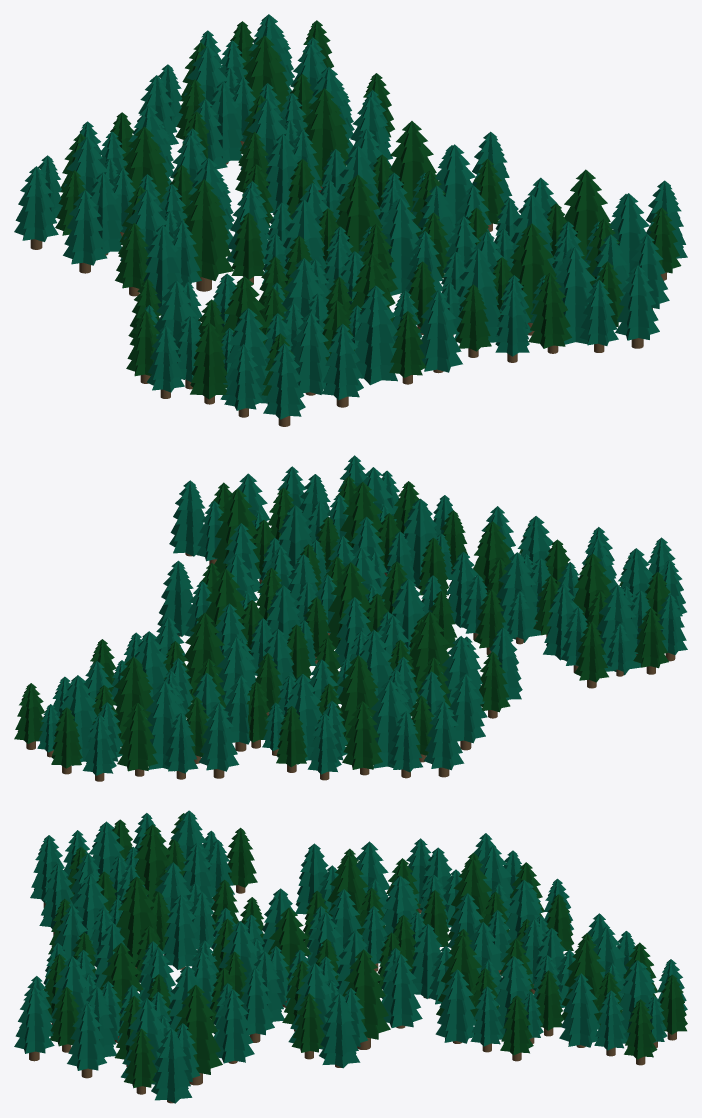
Rendered from forest4.glb.
3 renders of one model, top to bottom at view 1: azimuth 30°, elevation 25°; view 2: azimuth 150°, elevation 25°; view 3: azimuth 270°, elevation 25°, orthographic. The views are drawn at different scales.
Visible parts, largest first — view 1: Cylinder.159, Cylinder.237, Cylinder.165, Cylinder.307, Cylinder.055, Cylinder.123, Cylinder.199, Cylinder.071, Cylinder.243, Cylinder.279, Cylinder.067, Cylinder.209 (+89 smaller); view 2: Cylinder.025, Cylinder.175, Cylinder.141, Cylinder.275, Cylinder.345, Cylinder.349, Cylinder.333, Cylinder.263, Cylinder.279, Cylinder.271, Cylinder.237, Cylinder.341 (+101 smaller); view 3: Cylinder.097, Cylinder.027, Cylinder.287, Cylinder.321, Cylinder.025, Cylinder.095, Cylinder.077, Cylinder.007, Cylinder.167, Cylinder.147, Cylinder.035, Cylinder.071 (+94 smaller).
Boxes of the visible parts, <box> form: Cylinder.159: <box>353,285,397,385</box>; Cylinder.237: <box>182,179,233,280</box>; Cylinder.165: <box>419,290,462,372</box>; Cylinder.307: <box>303,88,348,186</box>; Cylinder.055: <box>555,247,595,344</box>; Cylinder.123: <box>381,198,421,295</box>; Cylinder.199: <box>292,312,330,394</box>; Cylinder.071: <box>615,265,659,340</box>; Cylinder.243: <box>63,190,107,265</box>; Cylinder.279: <box>14,166,58,241</box>; Cylinder.067: <box>528,272,571,348</box>; Cylinder.209: <box>263,343,305,419</box>; Cylinder.025: <box>169,480,205,556</box>; Cylinder.175: <box>596,584,641,675</box>; Cylinder.141: <box>496,552,540,642</box>; Cylinder.275: <box>342,701,382,769</box>; Cylinder.345: <box>117,702,157,771</box>; Cylinder.349: <box>198,702,239,771</box>; Cylinder.333: <box>145,681,183,771</box>; Cylinder.263: <box>371,680,408,769</box>; Cylinder.279: <box>423,701,464,770</box>; Cylinder.271: <box>338,655,378,745</box>; Cylinder.237: <box>409,611,449,701</box>; Cylinder.341: <box>113,656,153,747</box>; Cylinder.097: <box>342,949,390,1039</box>; Cylinder.027: <box>174,985,222,1074</box>; Cylinder.287: <box>435,969,476,1043</box>; Cylinder.321: <box>559,973,599,1047</box>; Cylinder.025: <box>151,1028,192,1103</box>; Cylinder.095: <box>319,993,360,1068</box>; Cylinder.077: <box>383,954,422,1027</box>; Cylinder.007: <box>215,989,254,1063</box>; Cylinder.167: <box>116,876,160,966</box>; Cylinder.147: <box>163,895,199,969</box>; Cylinder.035: <box>67,1003,106,1070</box>; Cylinder.071: <box>14,986,54,1053</box>.
Bounding box in the file's own units: 3.04 × 0.5755 × 3.59.
